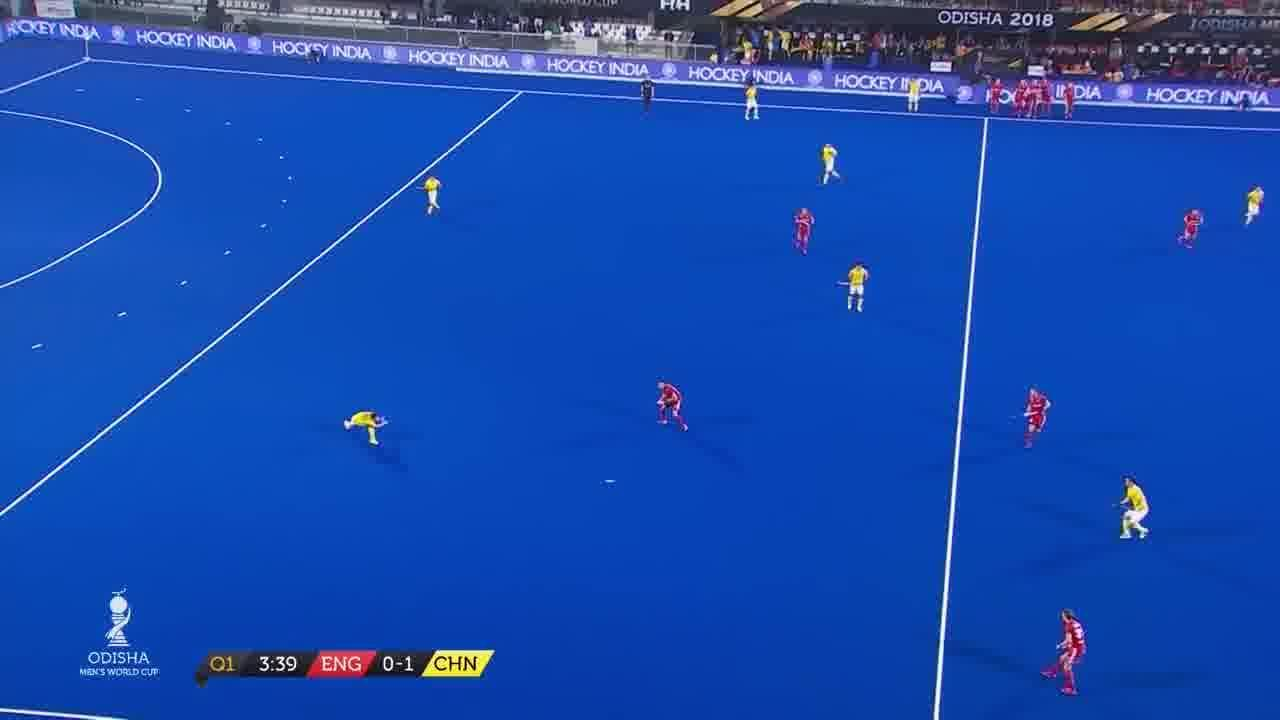ball: (602, 476, 616, 488)
